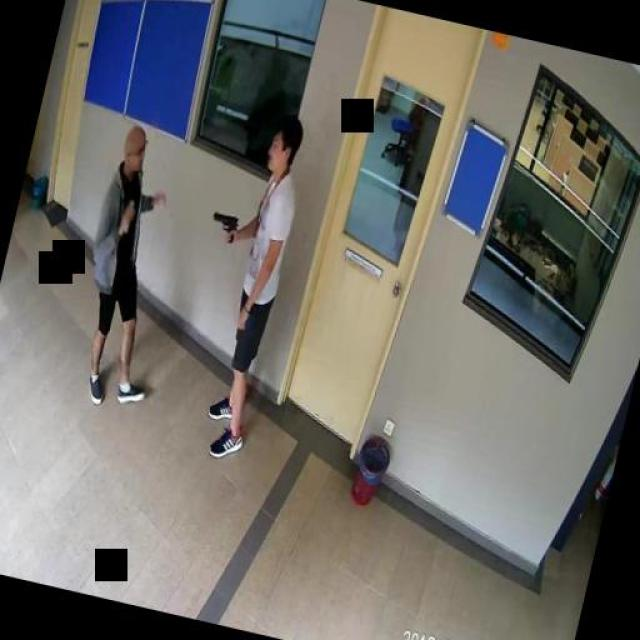gun: (208, 208, 240, 242)
